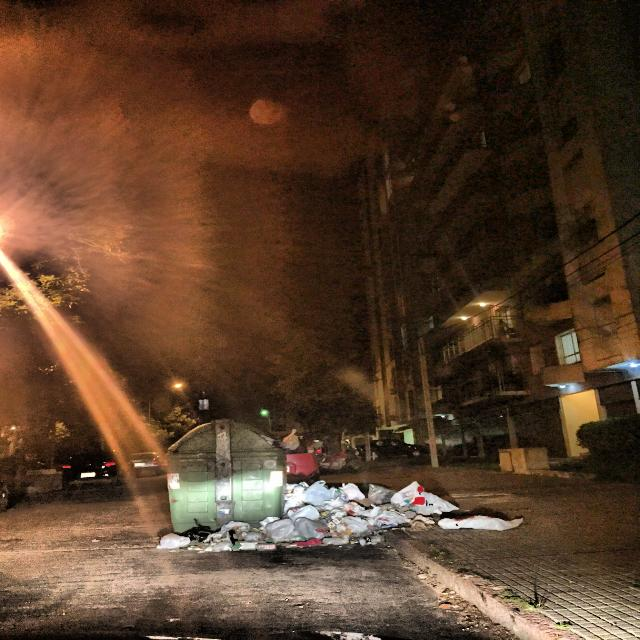garbage: (153, 478, 502, 561)
